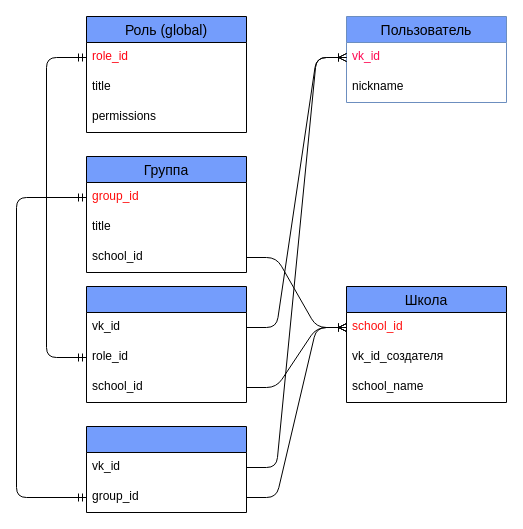
Image size: 523x529. Some labels were removed from this diagram. The shapes that lost their labels are listed below. From the top down, each one's box as (x1, y1, x2, y2) in pixels, then its label:
(86, 286, 246, 402): Принадлежность роли
(86, 426, 246, 512): Принадлежность группе
